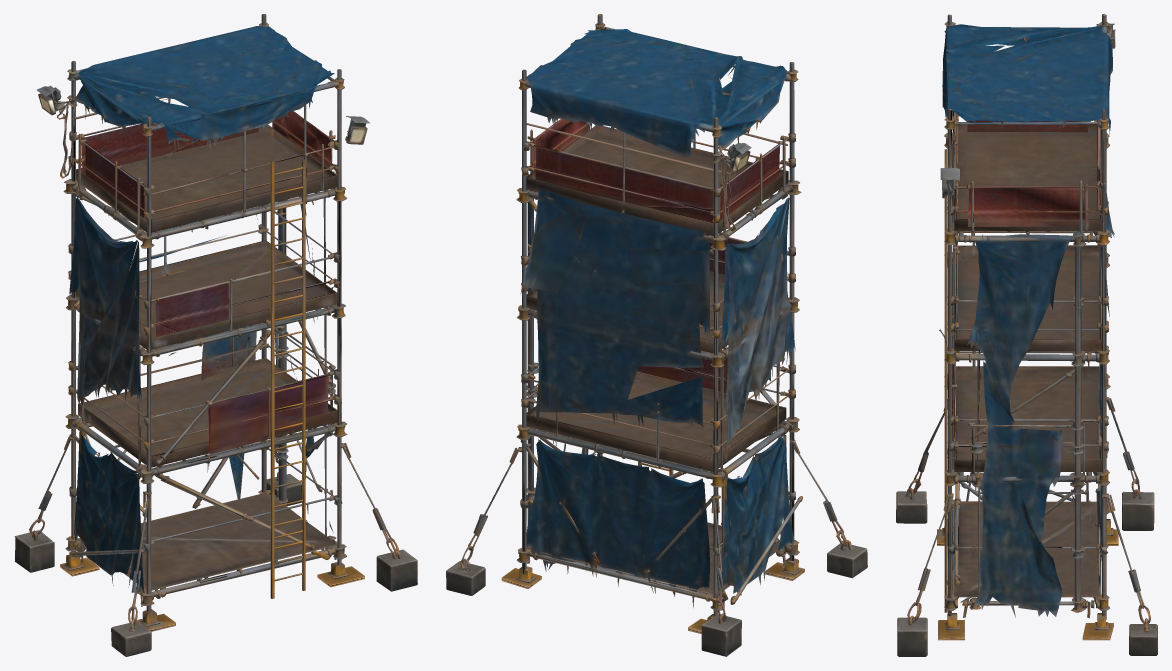
Rendered from scaffold.glb.
The picture shows the model from 3 angles, left to right: view 1: azimuth 30°, elevation 25°; view 2: azimuth 150°, elevation 25°; view 3: azimuth 270°, elevation 25°; orthographic projection. The views are drawn at different scales.
Parts seen in each view (by area): view 1: scaffold; view 2: scaffold; view 3: scaffold.
Part boxes in pixels (<box>): scaffold: <box>14,14,417,656</box>; scaffold: <box>446,14,867,656</box>; scaffold: <box>896,14,1157,656</box>.
Size of the model in its own units: 5.41 by 9 by 4.09.
Materials: 1 (1 with a texture image).
